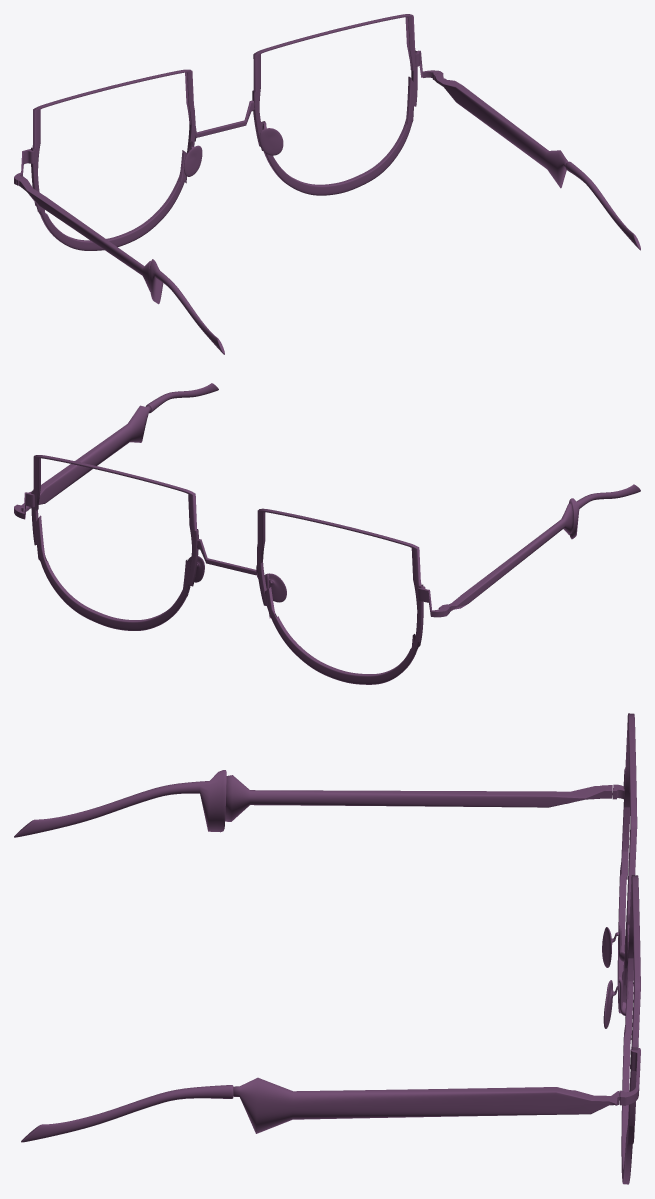
The picture shows the model from 3 angles, top to bottom: view 1: azimuth 30°, elevation 25°; view 2: azimuth 150°, elevation 25°; view 3: azimuth 270°, elevation 25°; orthographic projection. The views are drawn at different scales.
Parts seen in each view (by area): view 1: _Metal_Frame_Reading_Glasses_V2_Max2011_iterations_2:_Metal_; view 2: _Metal_Frame_Reading_Glasses_V2_Max2011_iterations_2:_Metal_; view 3: _Metal_Frame_Reading_Glasses_V2_Max2011_iterations_2:_Metal_.
Boxes of the visible parts, left/top/right/bottom form: _Metal_Frame_Reading_Glasses_V2_Max2011_iterations_2:_Metal_: left=14, top=14, right=640, bottom=354; _Metal_Frame_Reading_Glasses_V2_Max2011_iterations_2:_Metal_: left=14, top=383, right=640, bottom=684; _Metal_Frame_Reading_Glasses_V2_Max2011_iterations_2:_Metal_: left=14, top=713, right=640, bottom=1184.
Bounding box in the file's own units: 16 × 5.71 × 13.52.
